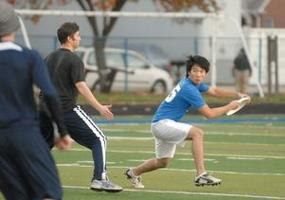person: (124, 55, 250, 189)
